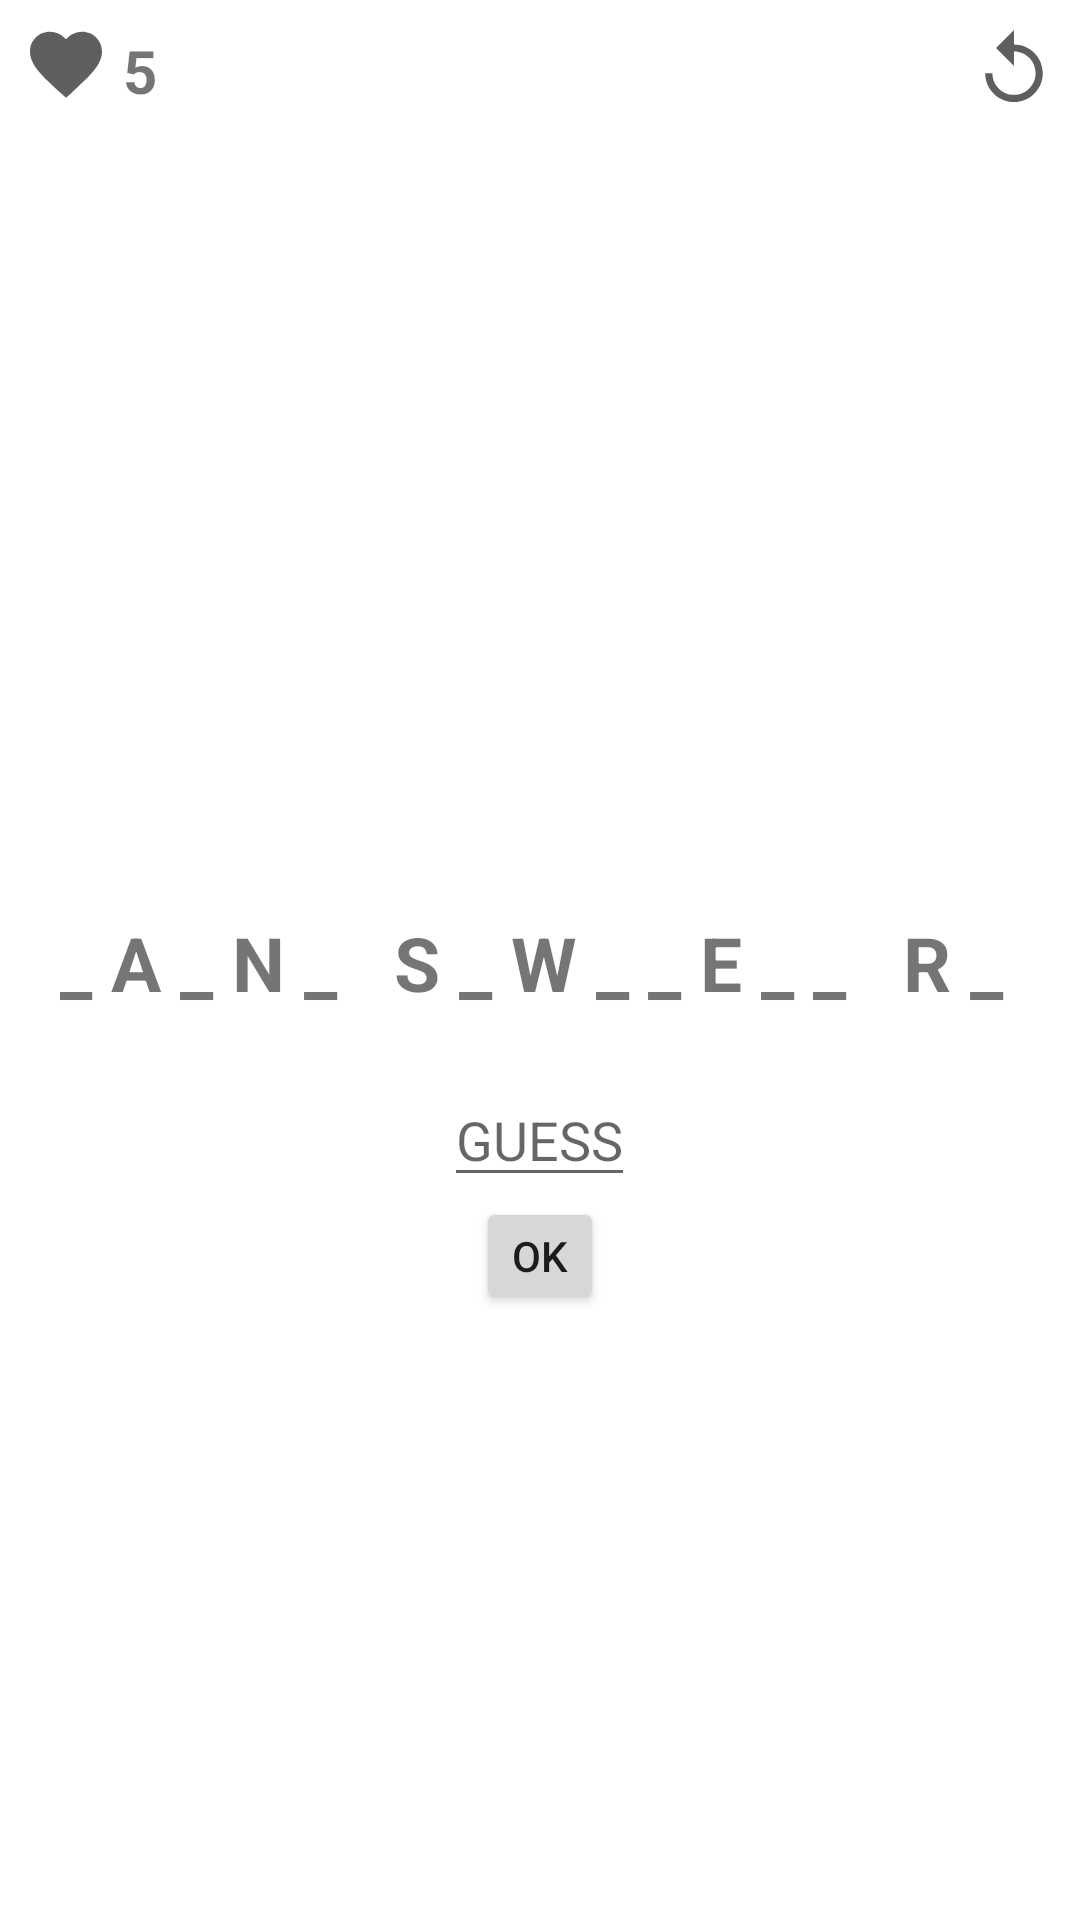

Where to tap for icons on this 1080×1920 app screen, as (x=x, y=y):
Lives left icon: (x=66, y=64)
Restarts the game: (x=1014, y=66)
